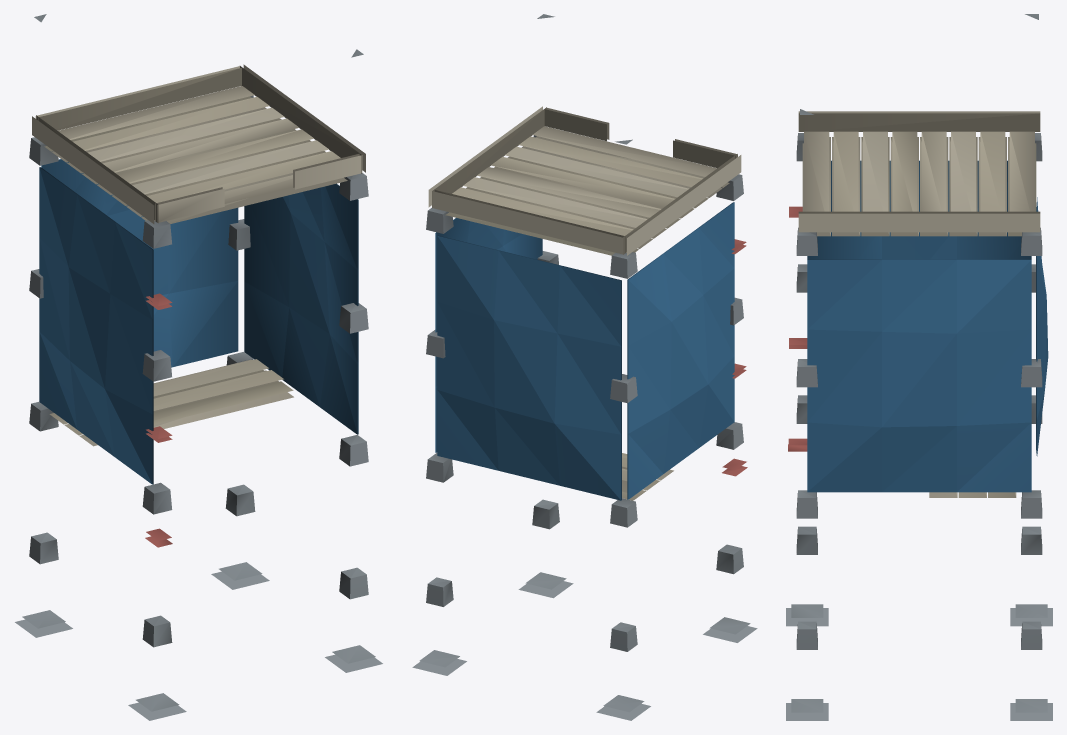
Rendered from scaffold.lod.glb.
3 renders of one model, left to right at view 1: azimuth 30°, elevation 25°; view 2: azimuth 150°, elevation 25°; view 3: azimuth 270°, elevation 25°, orthographic. The views are drawn at different scales.
Parts seen in each view (by area): view 1: scaffold; view 2: scaffold; view 3: scaffold.
Part boxes in pixels (x1,y1,x2,y2): scaffold: (15,14,382,720); scaffold: (412,14,757,720); scaffold: (786,14,1052,720).
Size of the model in its own units: 2.4 by 5.95 by 2.4.
